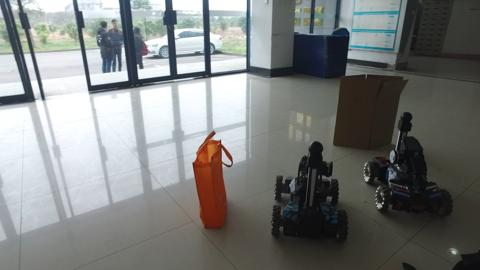bag: (193, 131, 229, 232)
box: (341, 70, 398, 147)
chariot: (364, 111, 455, 221), (270, 136, 353, 245)
